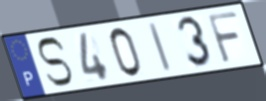0: (110, 26, 144, 79)
3: (175, 14, 215, 70)
4: (78, 30, 110, 83)
F: (205, 10, 243, 66)
I: (146, 20, 174, 74)
S: (35, 36, 75, 89)
